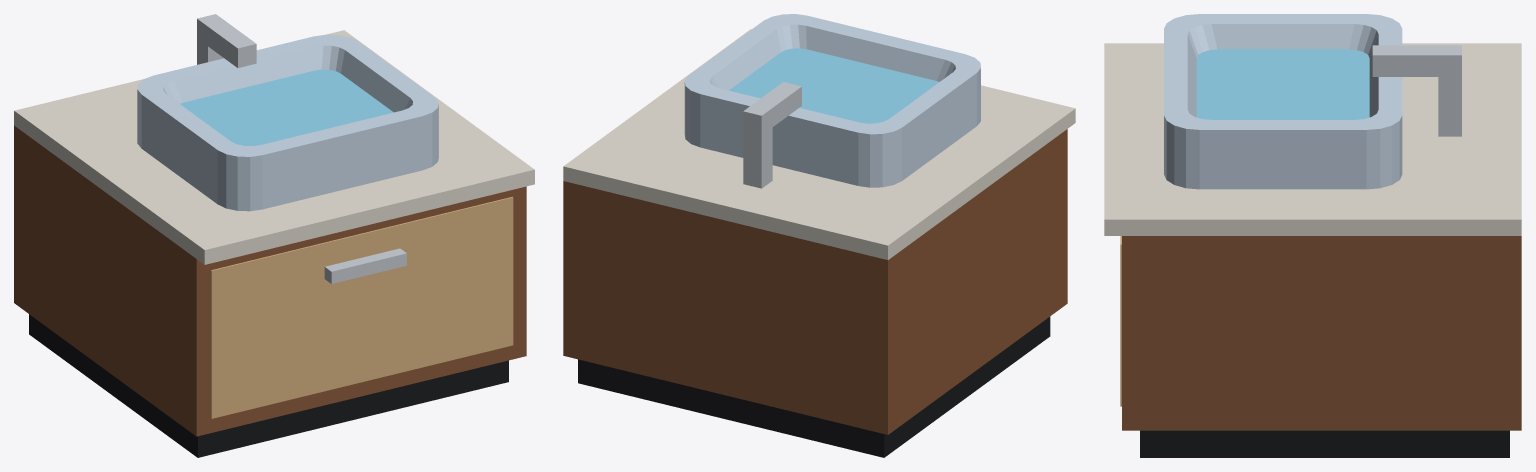
File: sink_square.glb
The picture shows the model from 3 angles, left to right: view 1: azimuth 30°, elevation 25°; view 2: azimuth 150°, elevation 25°; view 3: azimuth 270°, elevation 25°; orthographic projection. The views are drawn at different scales.
Parts seen in each view (by area): view 1: sink_square_Body; view 2: sink_square_Body; view 3: sink_square_Body.
Part boxes in pixels (box(x1,y1,x2,y2)): sink_square_Body: box(14, 14, 534, 457); sink_square_Body: box(563, 14, 1075, 457); sink_square_Body: box(1104, 14, 1521, 457).
Size of the model in its own units: 0.7 by 0.6 by 0.7.
